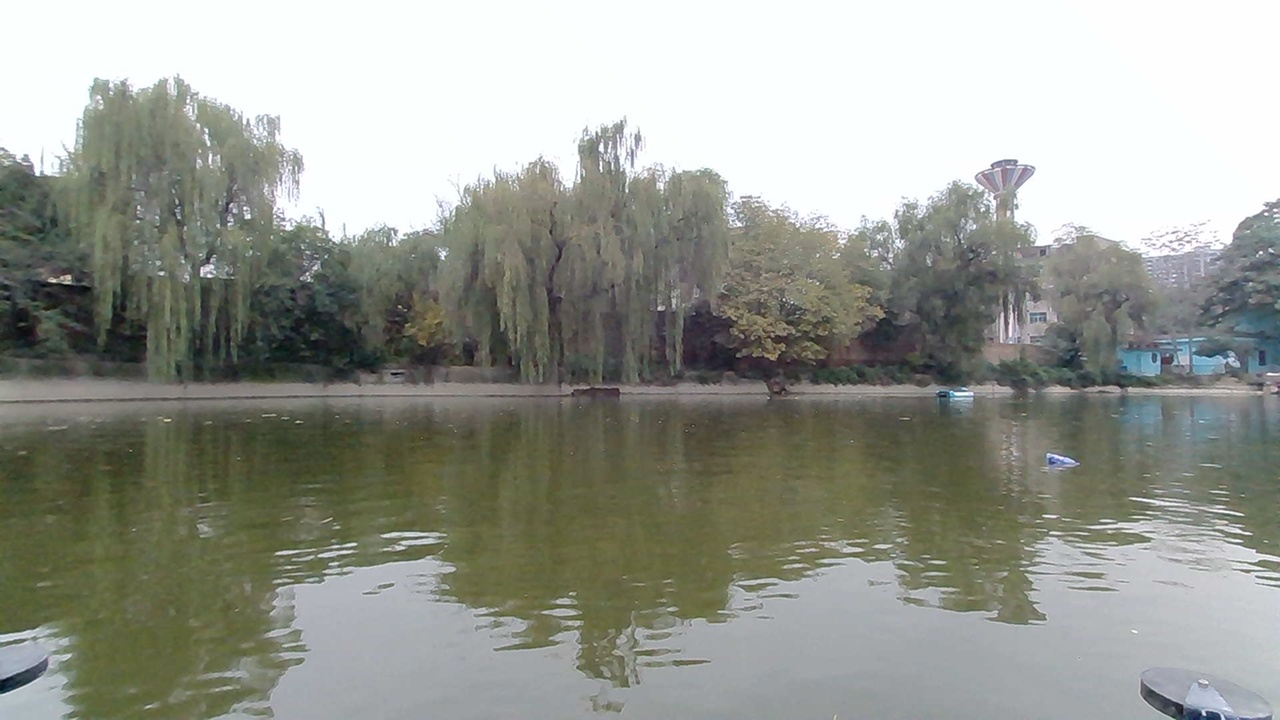bottle: (1035, 446, 1080, 480)
